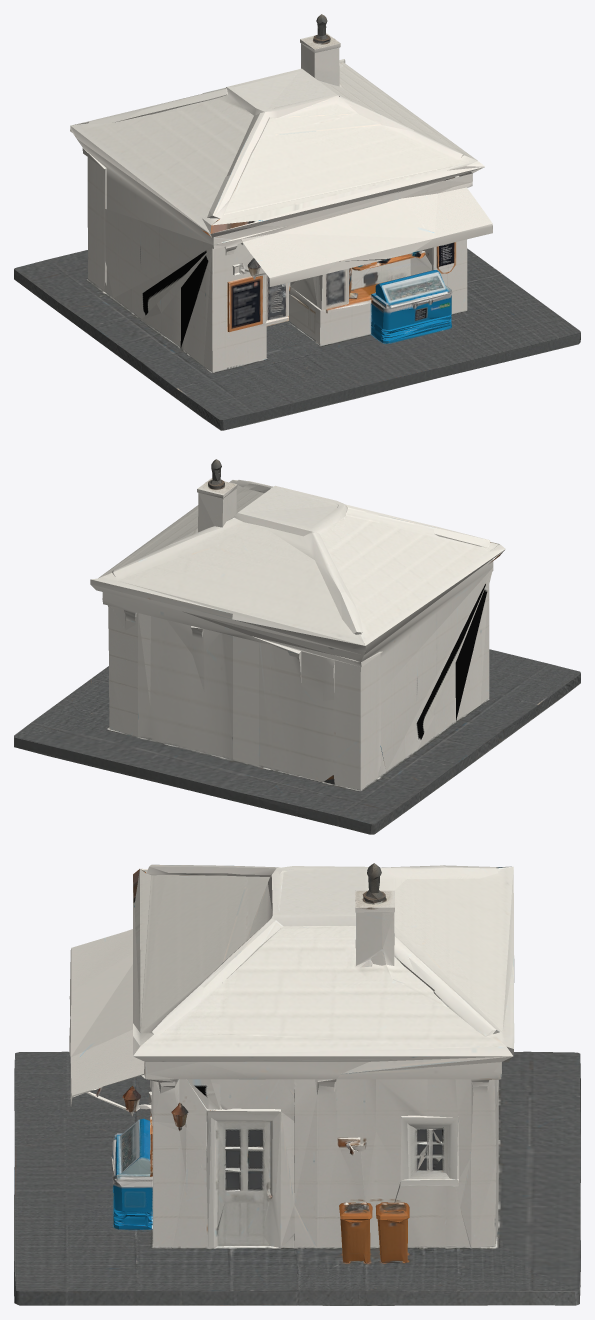
The model's file is bermuda-fish-market.glb.
The picture shows the model from 3 angles, top to bottom: view 1: azimuth 30°, elevation 25°; view 2: azimuth 150°, elevation 25°; view 3: azimuth 270°, elevation 25°; orthographic projection. The views are drawn at different scales.
Parts seen in each view (by area): view 1: output_unwrapped; view 2: output_unwrapped; view 3: output_unwrapped.
Boxes of the visible parts, x1=… form: output_unwrapped: x1=14, y1=14, x2=580, y2=430; output_unwrapped: x1=14, y1=459, x2=580, y2=834; output_unwrapped: x1=14, y1=863, x2=580, y2=1305.
Bounding box in the file's own units: 1.9 × 1.33 × 1.9.
Materials: 1 (1 with a texture image).
